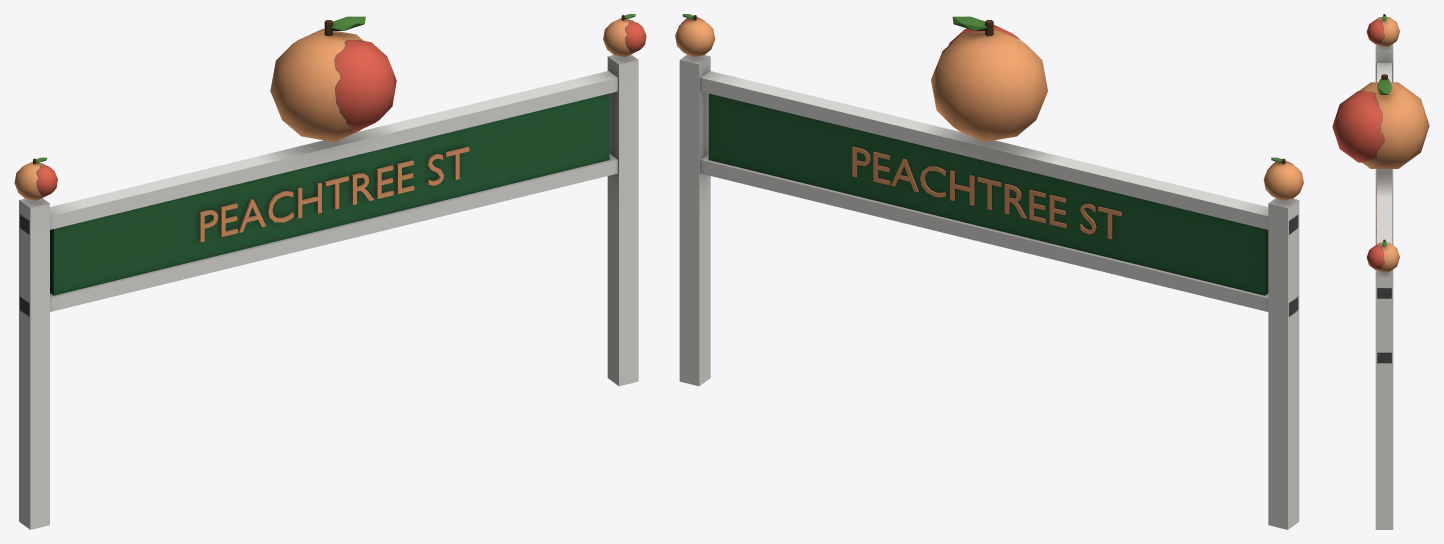
The model's file is arco_melocoton.glb.
The picture shows the model from 3 angles, left to right: view 1: azimuth 30°, elevation 25°; view 2: azimuth 150°, elevation 25°; view 3: azimuth 270°, elevation 25°; orthographic projection. The views are drawn at different scales.
Parts seen in each view (by area): view 1: arco_melocoton; view 2: arco_melocoton; view 3: arco_melocoton.
Boxes of the visible parts, bbox=[...] form: arco_melocoton: bbox=[14, 14, 646, 529]; arco_melocoton: bbox=[675, 14, 1303, 529]; arco_melocoton: bbox=[1332, 14, 1429, 529].
Size of the model in its own units: 19.06 by 12.57 by 3.28.
1 material, 1 textured.
